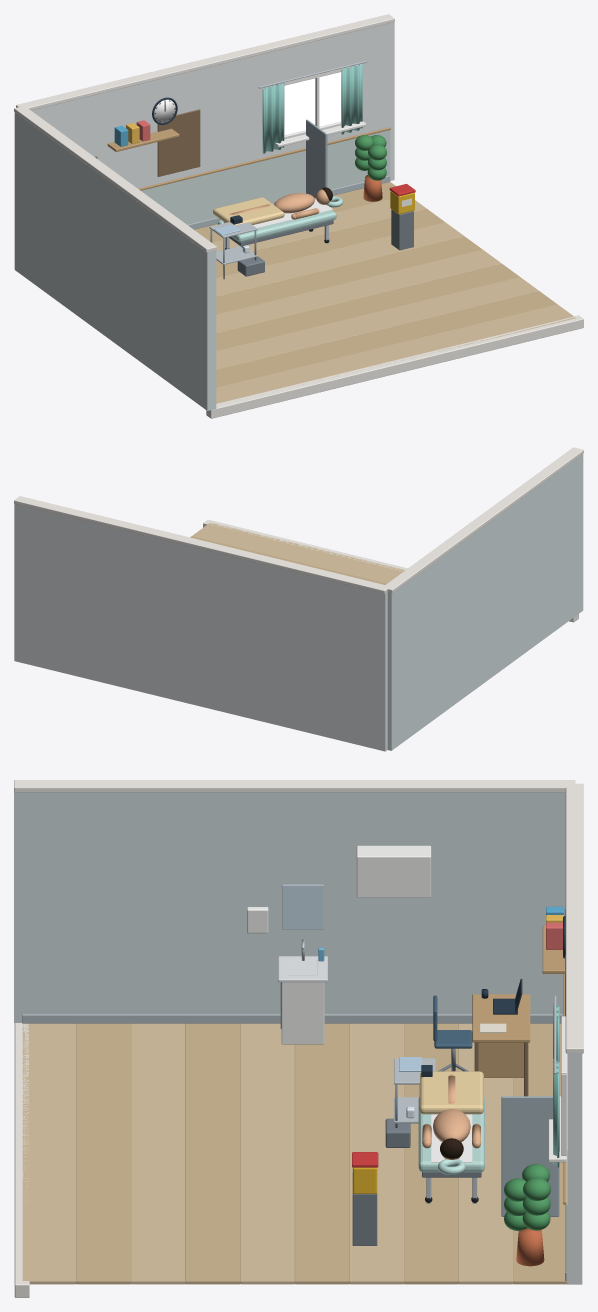
Rendered from clinic.glb.
3 views of the same model, one above another, from view 1: azimuth 30°, elevation 25°; view 2: azimuth 150°, elevation 25°; view 3: azimuth 270°, elevation 25° (orthographic). The views are drawn at different scales.
Visible parts, largest first — view 1: WallLeft, WallBack, Wainscot, Plank8, Plank9, Plank7, Plank6, SlabEdge, Plank5, Plank4, Plank3, CutBack (+15 smaller); view 2: WallBack, WallLeft, CutBack, Plank9, CutLeft, SlabEdge, Plank8; view 3: WallLeft, Plank6, Plank8, Plank7, Plank9, Plank5, Plank4, Plank3, Plank2, Plank1, CutLeft, CutBack (+21 smaller).
Boxes of the visible parts, x1=… form: WallLeft: x1=14, y1=112, x2=216, y2=410; WallBack: x1=31, y1=22, x2=394, y2=188; Wainscot: x1=141, y1=130, x2=390, y2=224; Plank8: x1=216, y1=291, x2=557, y2=387; Plank9: x1=216, y1=304, x2=575, y2=403; Plank7: x1=216, y1=277, x2=538, y2=369; Plank6: x1=216, y1=263, x2=520, y2=351; SlabEdge: x1=206, y1=315, x2=583, y2=418; Plank5: x1=216, y1=250, x2=501, y2=332; Plank4: x1=216, y1=236, x2=482, y2=314; Plank3: x1=216, y1=222, x2=463, y2=296; CutBack: x1=16, y1=14, x2=394, y2=110; WallBack: x1=14, y1=504, x2=387, y2=751; WallLeft: x1=387, y1=454, x2=583, y2=750; CutBack: x1=14, y1=496, x2=389, y2=593; Plank9: x1=192, y1=523, x2=405, y2=583; CutLeft: x1=384, y1=447, x2=583, y2=593; SlabEdge: x1=203, y1=519, x2=578, y2=622; Plank8: x1=190, y1=536, x2=386, y2=584; WallLeft: x1=14, y1=792, x2=565, y2=1022; Plank6: x1=185, y1=1023, x2=240, y2=1284; Plank8: x1=76, y1=1023, x2=131, y2=1284; Plank7: x1=131, y1=1023, x2=185, y2=1284; Plank9: x1=22, y1=1023, x2=76, y2=1284; Plank5: x1=240, y1=1023, x2=294, y2=1284; Plank4: x1=295, y1=1023, x2=349, y2=1284; Plank3: x1=349, y1=1023, x2=403, y2=1284; Plank2: x1=404, y1=1023, x2=458, y2=1284; Plank1: x1=458, y1=1023, x2=512, y2=1284; CutLeft: x1=14, y1=780, x2=575, y2=792; CutBack: x1=565, y1=783, x2=583, y2=1053.
Bounding box in the file's own units: 7.7 × 3.33 × 6.9.
